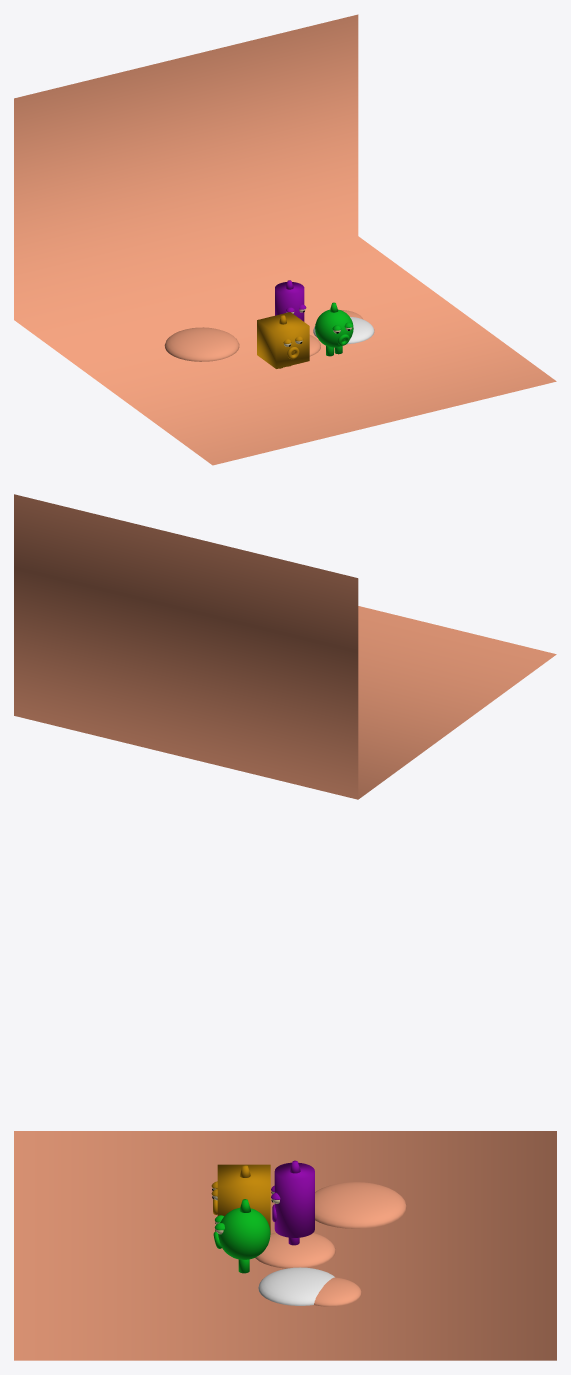
The model's file is 三小人.glb.
3 views of the same model, one above another, from view 1: azimuth 30°, elevation 25°; view 2: azimuth 150°, elevation 25°; view 3: azimuth 270°, elevation 25° (orthographic). The views are drawn at different scales.
Parts seen in each view (by area): view 1: 平面, 立方体, 球体.022, 球体.006, 柱体.004; view 2: 平面; view 3: 平面, 球体.022, 柱体.004, 立方体, 球体.020, 球体.006, 球体.019, 球体.021.
Part boxes in pixels (box(x1,y1,x2,y2)): 平面: box(14, 14, 556, 465); 立方体: box(257, 312, 309, 368); 球体.022: box(164, 327, 239, 361); 球体.006: box(315, 309, 353, 347); 柱体.004: box(275, 282, 304, 321); 平面: box(14, 494, 556, 799); 平面: box(14, 1131, 556, 1360); 球体.022: box(315, 1182, 406, 1228); 柱体.004: box(274, 1162, 314, 1237); 立方体: box(217, 1164, 270, 1232); 球体.020: box(258, 1267, 334, 1305); 球体.006: box(218, 1208, 270, 1259); 球体.019: box(255, 1232, 335, 1268); 球体.021: box(314, 1277, 361, 1306).
Bounding box in the file's own units: 20.59 × 13.23 × 20.59.
